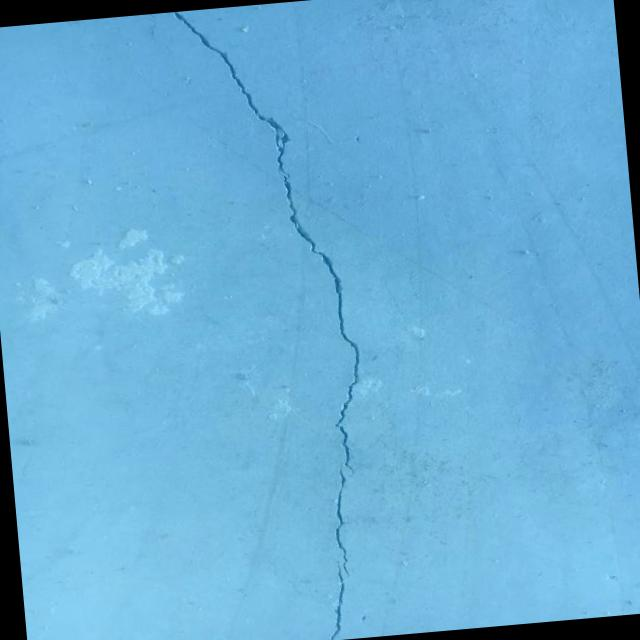crack: (172, 0, 370, 489), (315, 467, 359, 640)
